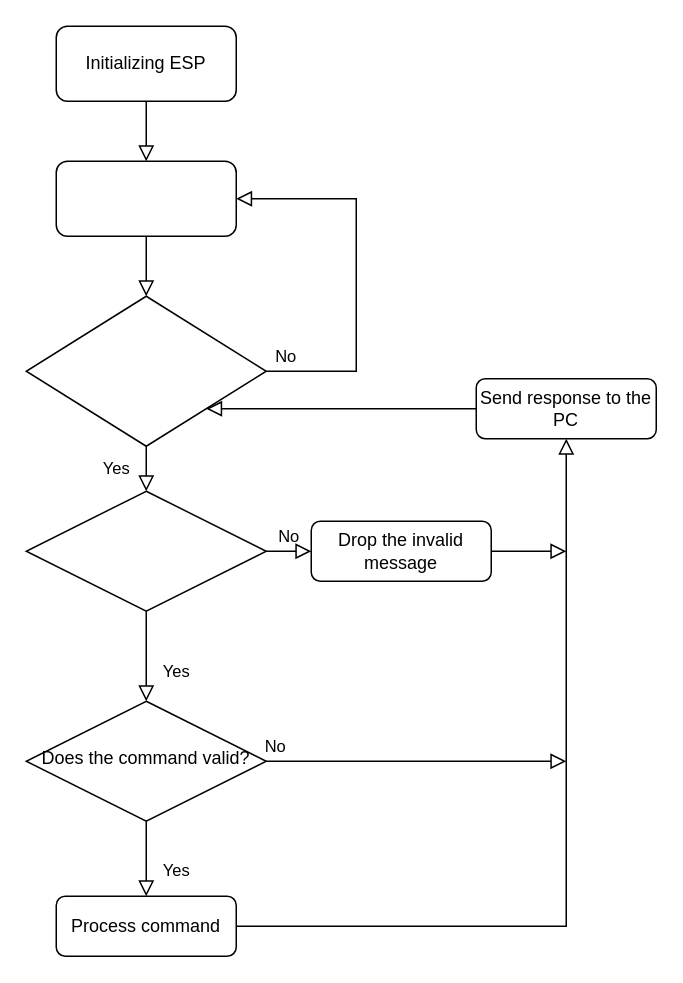
Some shapes in this 683 by 983 pixel diagram are drawn without their labels. The shapes that lost their labels are listed below. From the top down, each one's box as (x1, y1, x2, y2) in pixels, then its label:
(55, 160, 236, 236): Reading bytes from serial line between ESP and PC
(25, 295, 266, 446): Does at least one full message transmitted
(25, 490, 266, 611): Does the checksum matches the sent one?
